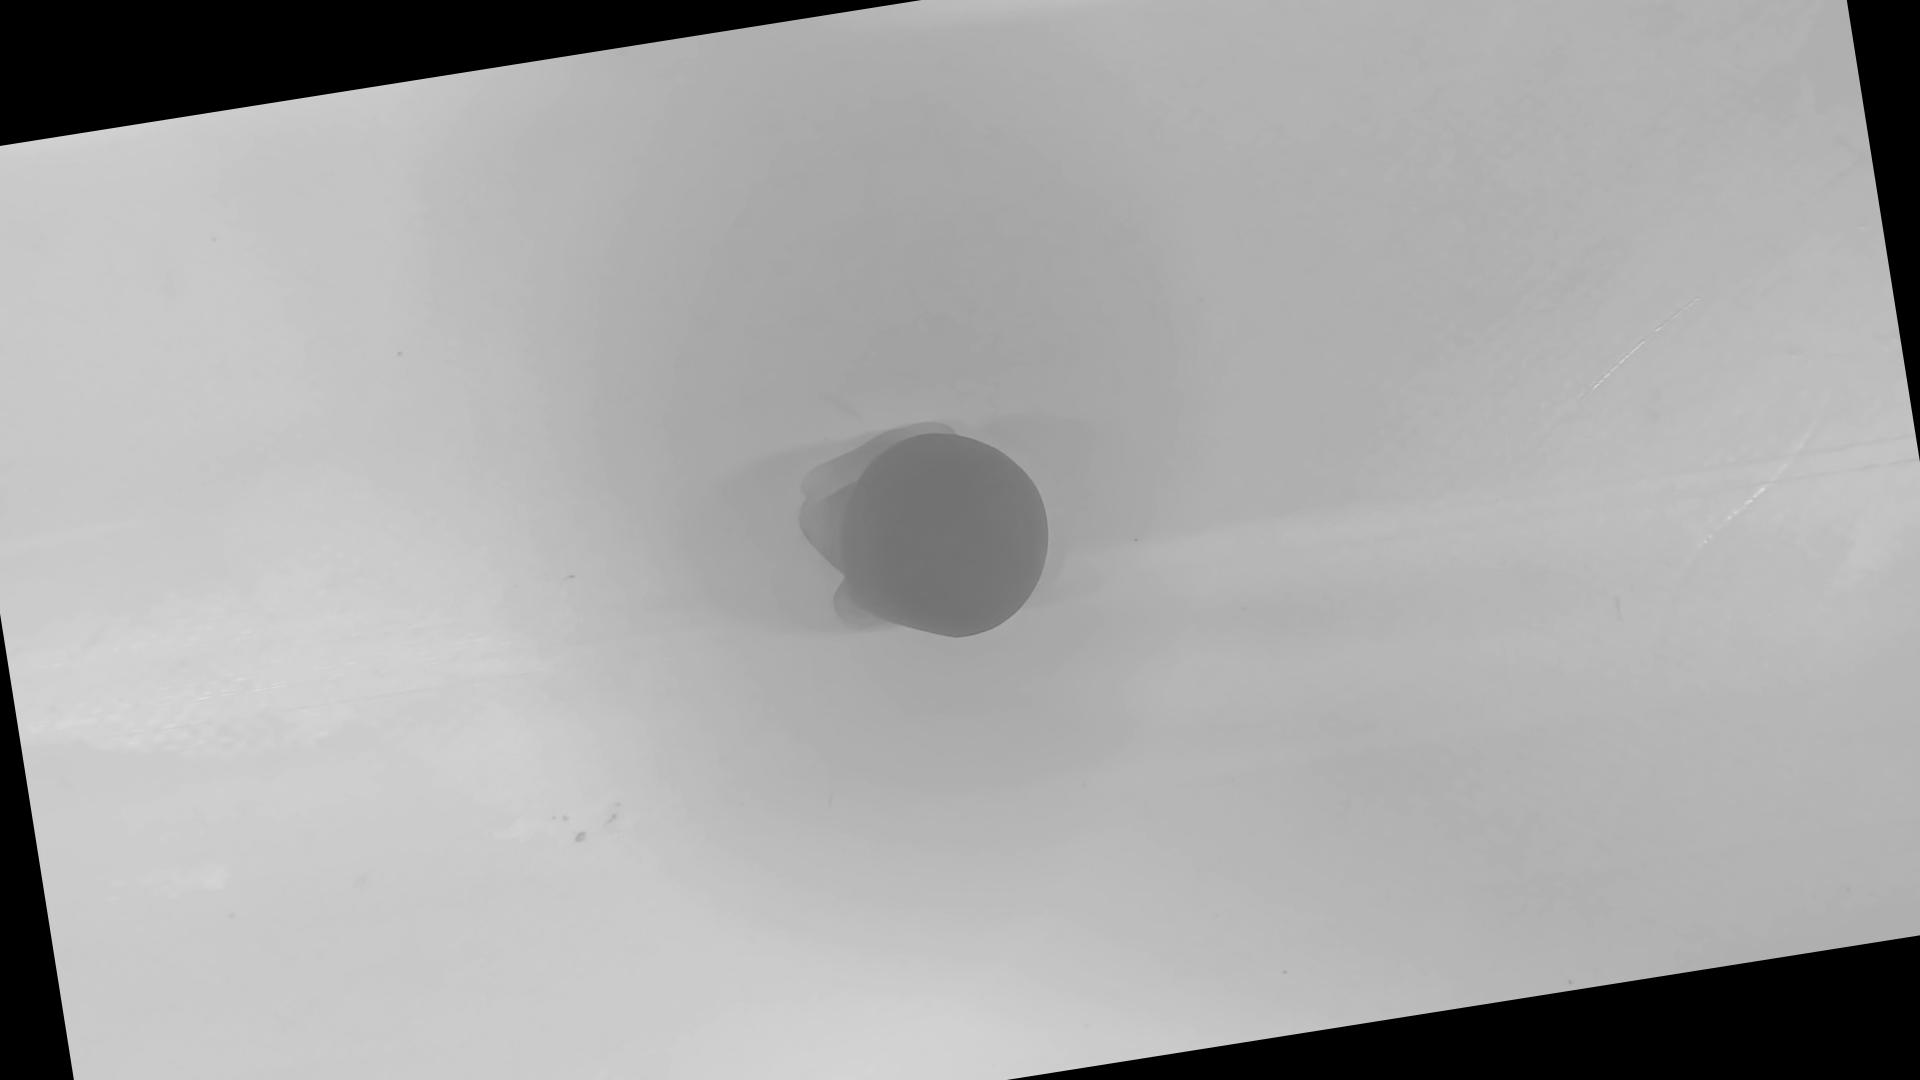abnormal: (789, 402, 1065, 663)
